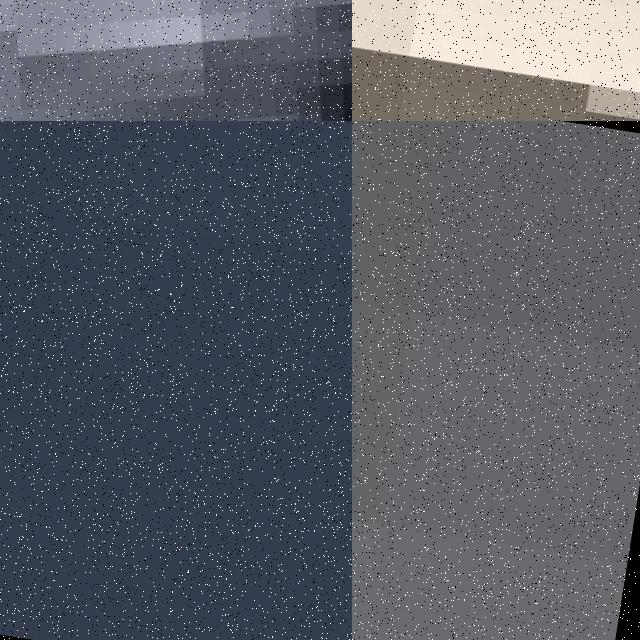drone: (0, 0, 352, 121)
